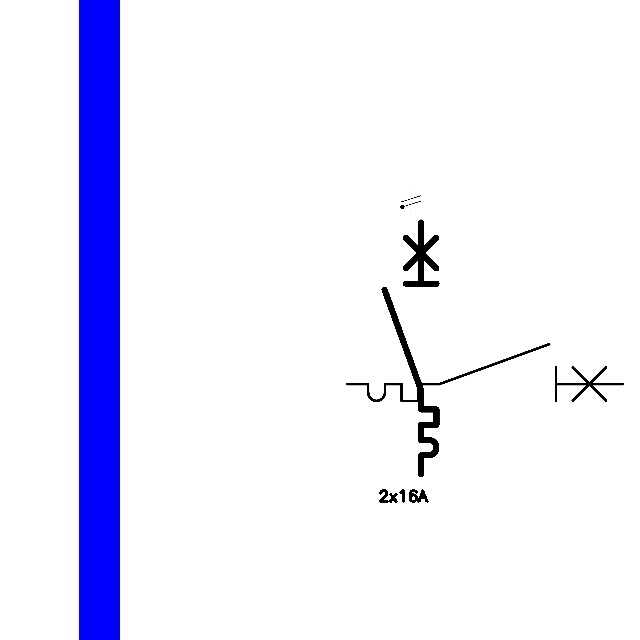interruptor_termomagnetico: (340, 337, 630, 408), (378, 216, 443, 481)
